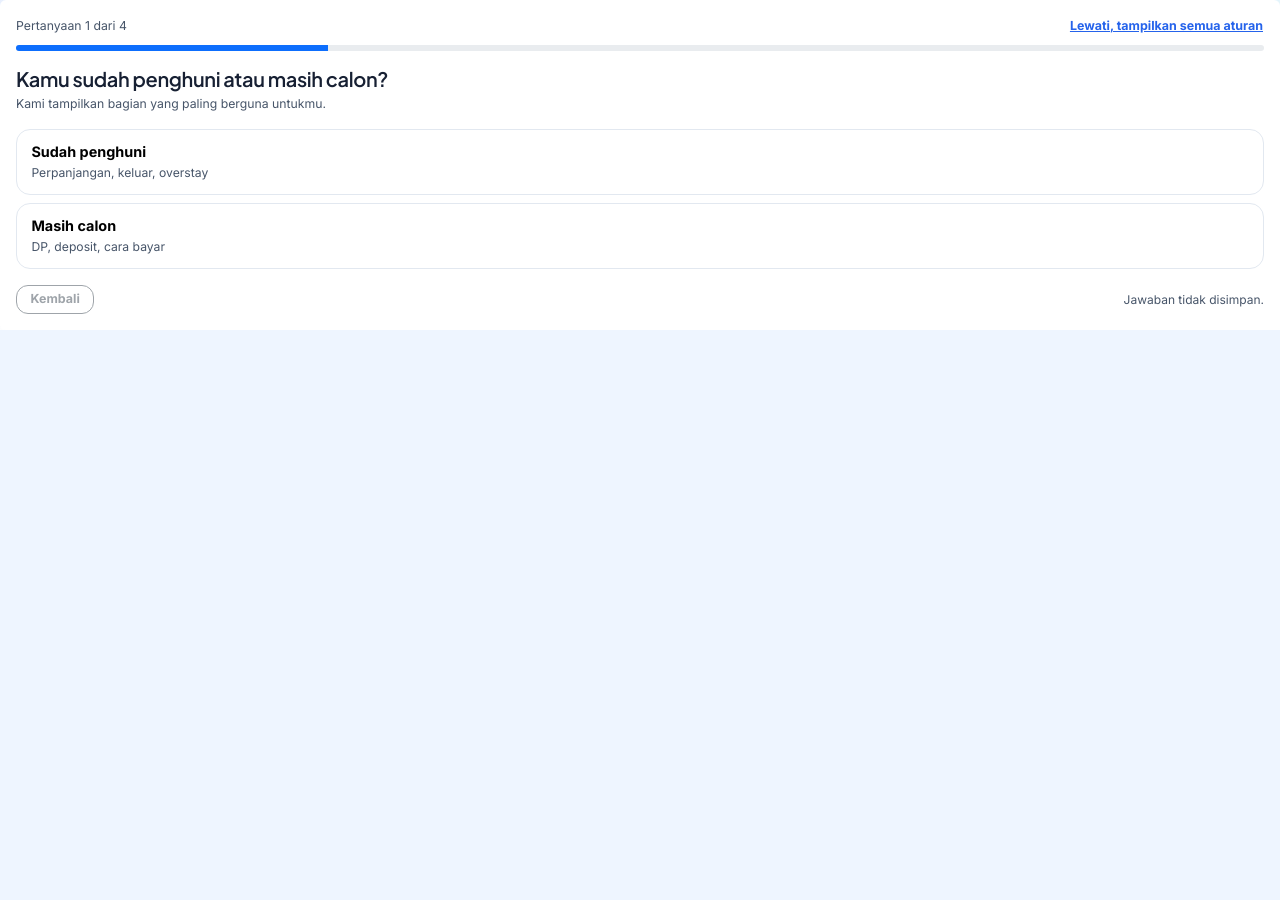
Test: TenantRulesWizard — 4 pertanyaan, tanpa penyimpanan › tidak menyimpan jawaban ke storage
Click the button "Masih calon DP, deposit, cara bayar" at (74, 226), box [16, 203, 1264, 269]
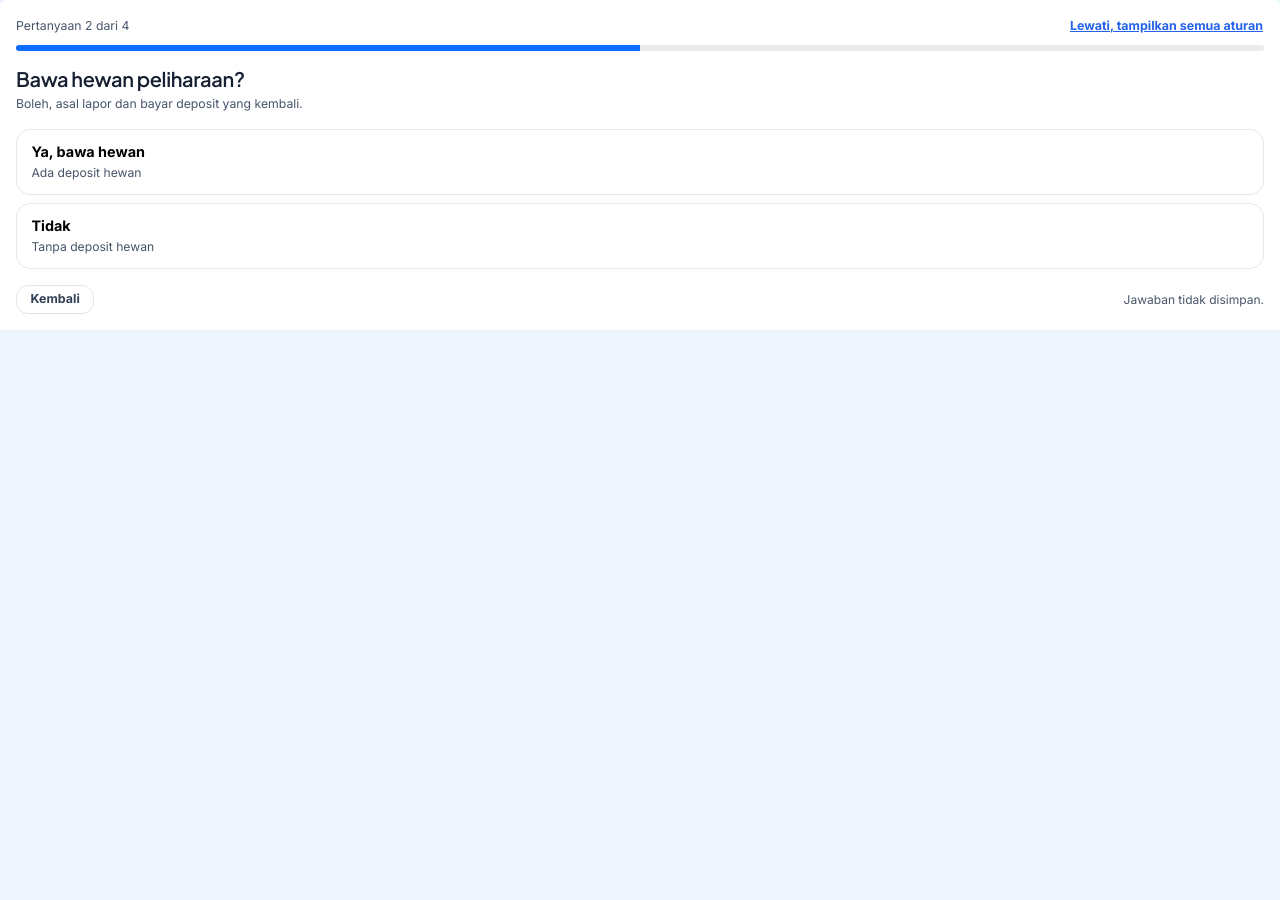
Click the button "Tidak Tanpa deposit hewan" at (51, 226), box [16, 203, 1264, 269]
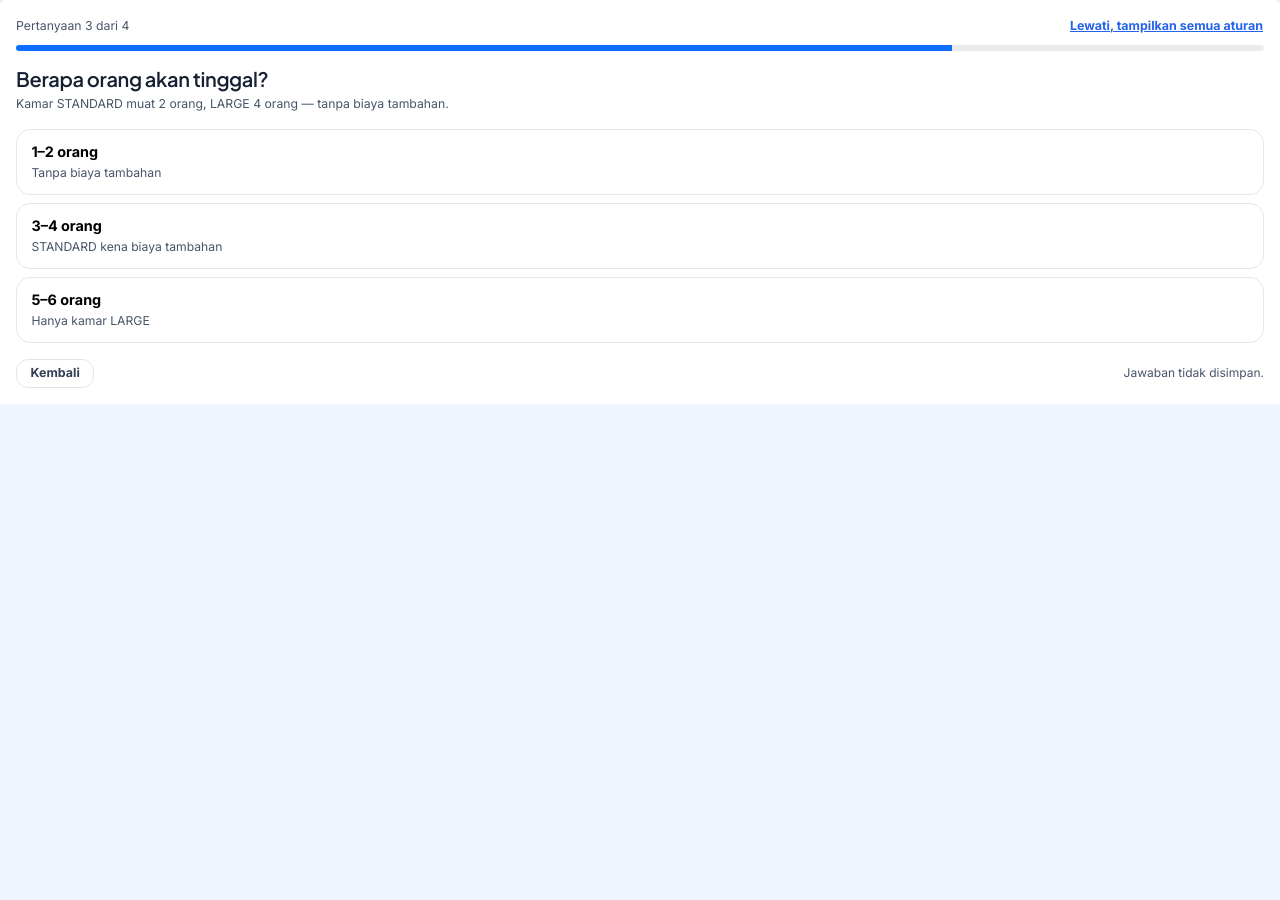
Click the button "1–2 orang Tanpa biaya tambahan" at (65, 152), box [16, 129, 1264, 195]
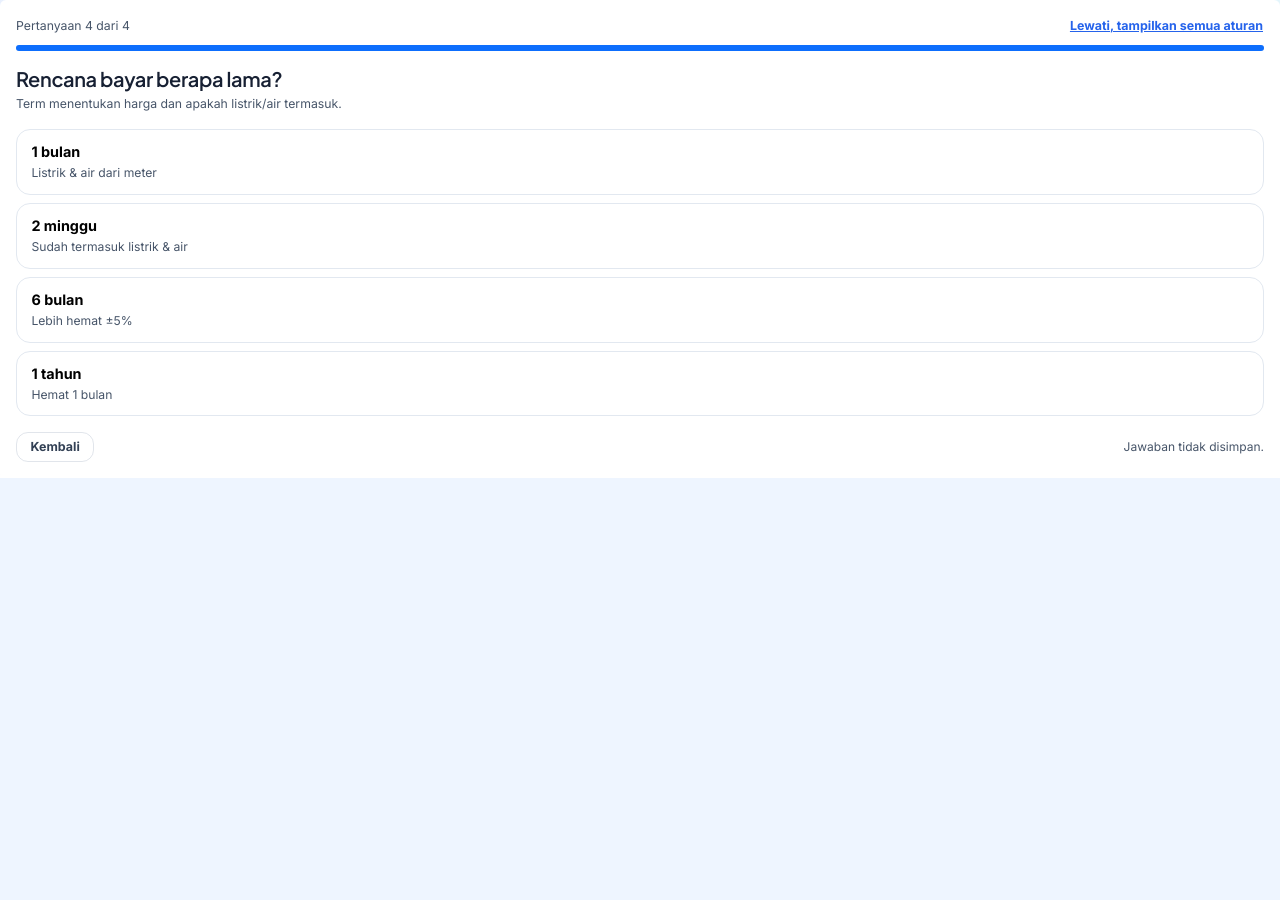
Click the button "1 tahun Hemat 1 bulan" at (56, 373), box [16, 350, 1264, 416]
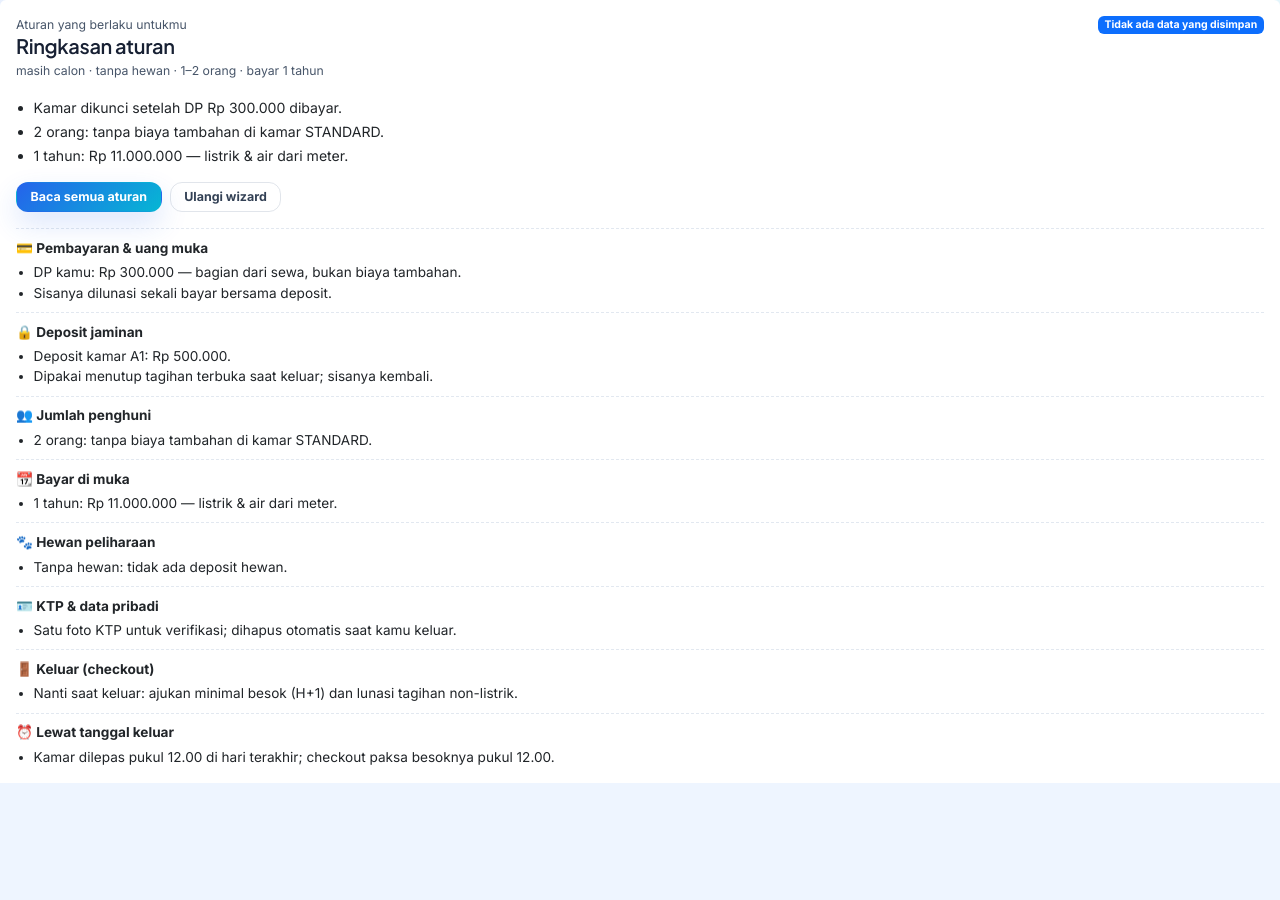
Expected: the text "Tidak ada data yang disimpan" is shown, [1098, 16, 1264, 34]
